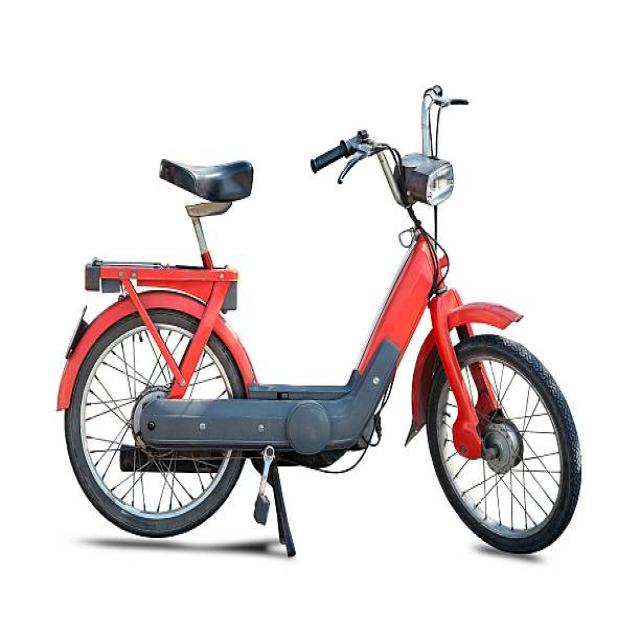Motorcycle: (58, 85, 582, 557)
